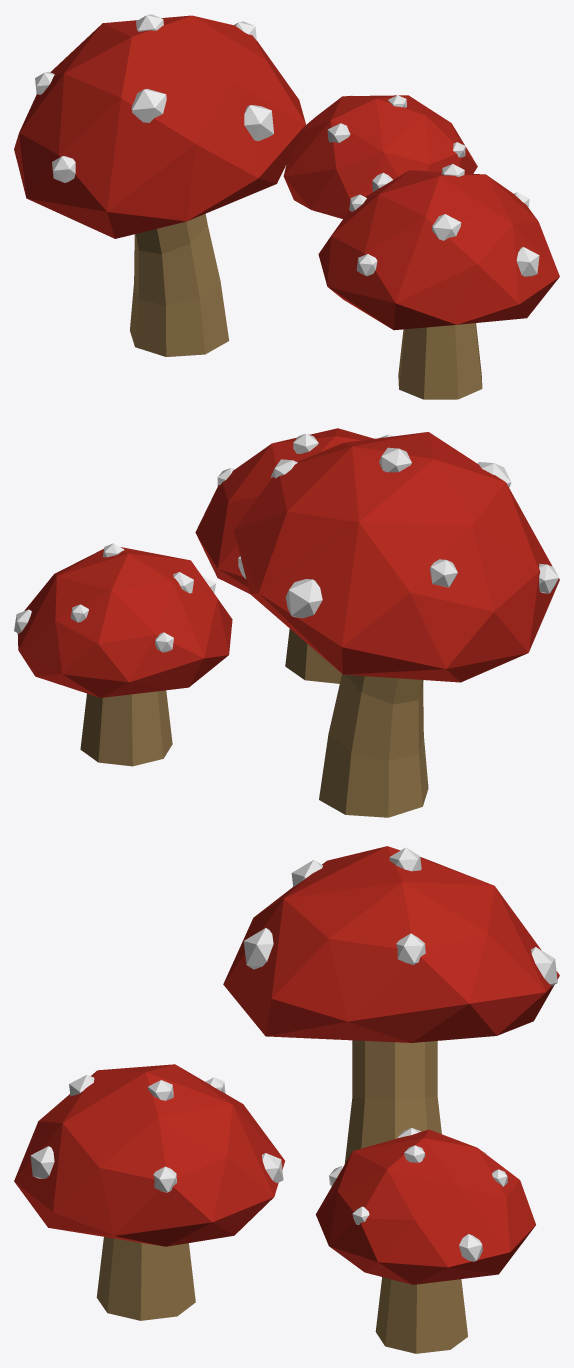
File: mushroom_2.glb
The picture shows the model from 3 angles, top to bottom: view 1: azimuth 30°, elevation 25°; view 2: azimuth 150°, elevation 25°; view 3: azimuth 270°, elevation 25°; orthographic projection. The views are drawn at different scales.
Parts seen in each view (by area): view 1: Cylinder.001; view 2: Cylinder.001; view 3: Cylinder.001.
Boxes of the visible parts, box(x1,y1,x2,y2) form: Cylinder.001: box(14, 14, 559, 399); Cylinder.001: box(14, 428, 559, 817); Cylinder.001: box(14, 846, 559, 1353).
Bounding box in the file's own units: 0.4689 × 0.3259 × 0.4502.
